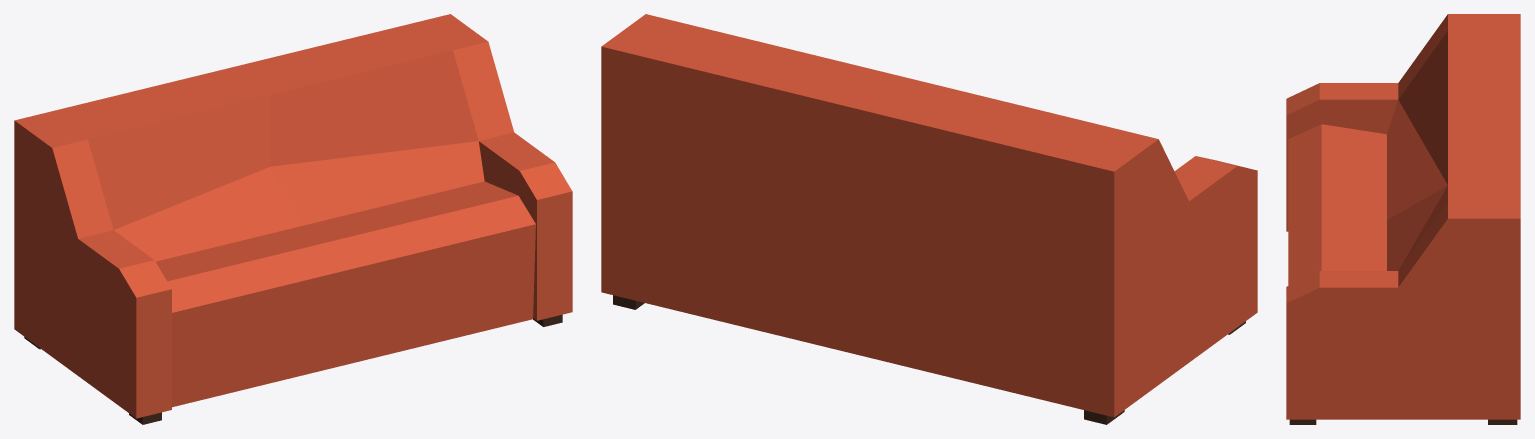
File: Couch.fbx
3 renders of one model, left to right at view 1: azimuth 30°, elevation 25°; view 2: azimuth 150°, elevation 25°; view 3: azimuth 270°, elevation 25°, orthographic. The views are drawn at different scales.
Visible parts, largest first — view 1: Couch; view 2: Couch; view 3: Couch.
Boxes of the visible parts, x1,y1,x2,y2 form: Couch: [14, 14, 572, 424]; Couch: [601, 14, 1257, 424]; Couch: [1286, 14, 1520, 424].
Bounding box in the file's own units: 5761 × 2758 × 2788.
Materials: 1 (1 with a texture image).
